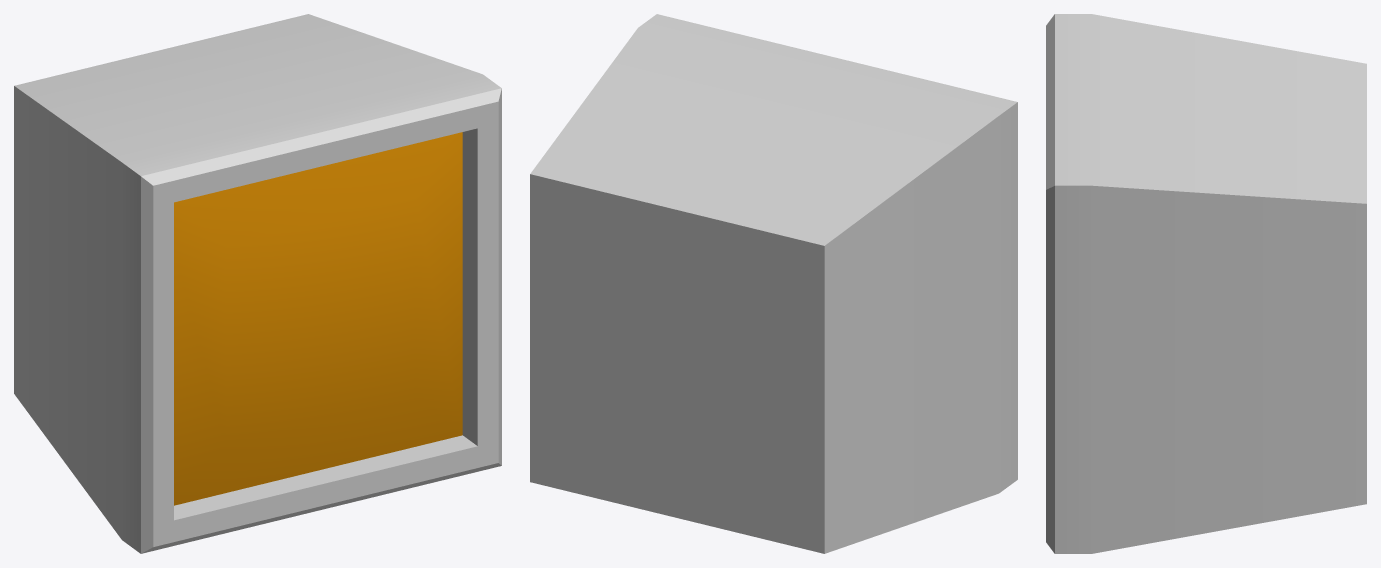
File: SimpleMonitor.fbx
3 renders of one model, left to right at view 1: azimuth 30°, elevation 25°; view 2: azimuth 150°, elevation 25°; view 3: azimuth 270°, elevation 25°, orthographic. The views are drawn at different scales.
Visible parts, largest first — view 1: TV; view 2: TV; view 3: TV.
Part boxes in pixels (x1,y1,x2,y2): TV: [14, 14, 501, 553]; TV: [530, 14, 1017, 553]; TV: [1046, 14, 1366, 553].
Bounding box in the file's own units: 1.24 × 1.24 × 0.9767.
